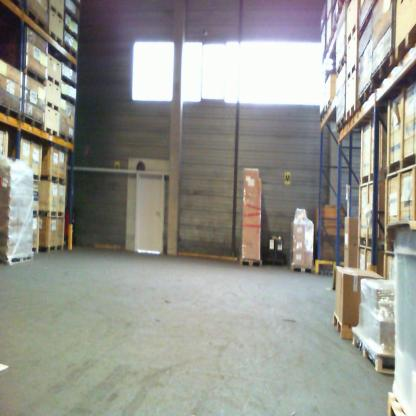pallet: (352, 327, 394, 374), (369, 45, 392, 89), (333, 309, 358, 347), (392, 24, 416, 63), (385, 154, 416, 179), (24, 6, 50, 35), (386, 391, 416, 415), (356, 79, 374, 113), (1, 102, 23, 126), (0, 253, 34, 268), (22, 65, 46, 86), (21, 113, 43, 133), (38, 242, 65, 256), (48, 29, 64, 49), (40, 174, 66, 186), (346, 22, 358, 47), (64, 5, 79, 25), (38, 210, 65, 221), (61, 73, 78, 90), (346, 106, 360, 126), (356, 236, 373, 252), (45, 73, 61, 90), (346, 55, 356, 82), (64, 42, 78, 61), (59, 131, 75, 147), (60, 92, 77, 107), (290, 264, 313, 275), (64, 25, 78, 43), (336, 53, 346, 78), (239, 259, 263, 268), (358, 173, 373, 187), (45, 99, 60, 113), (49, 4, 63, 19), (335, 116, 347, 133), (44, 125, 59, 138), (323, 98, 334, 114), (31, 243, 40, 254), (33, 173, 41, 182), (32, 209, 39, 218)
